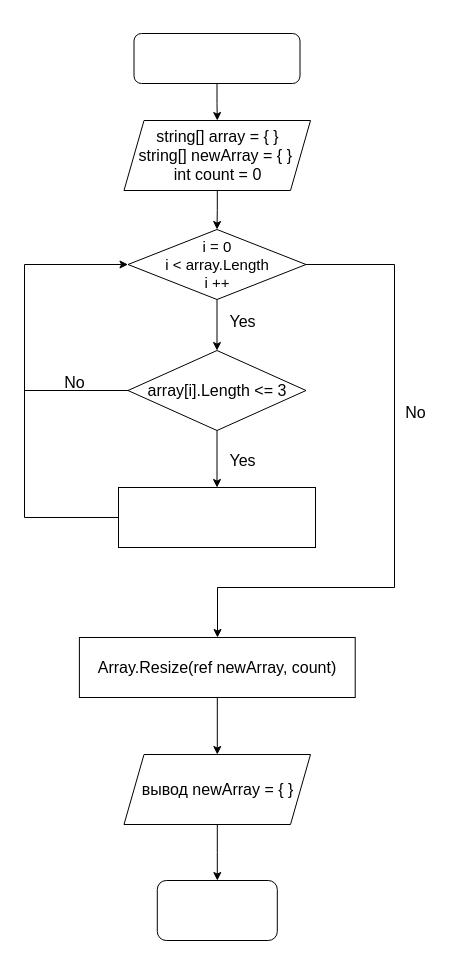
Image size: 453x976. Some labels were removed from this diagram. The centre of each missing label's shape, as x and y in pixels:
newArray[count] = array[i] count ++: the point at 217,517
Конец: the point at 216,910
Начало: the point at 216,58
